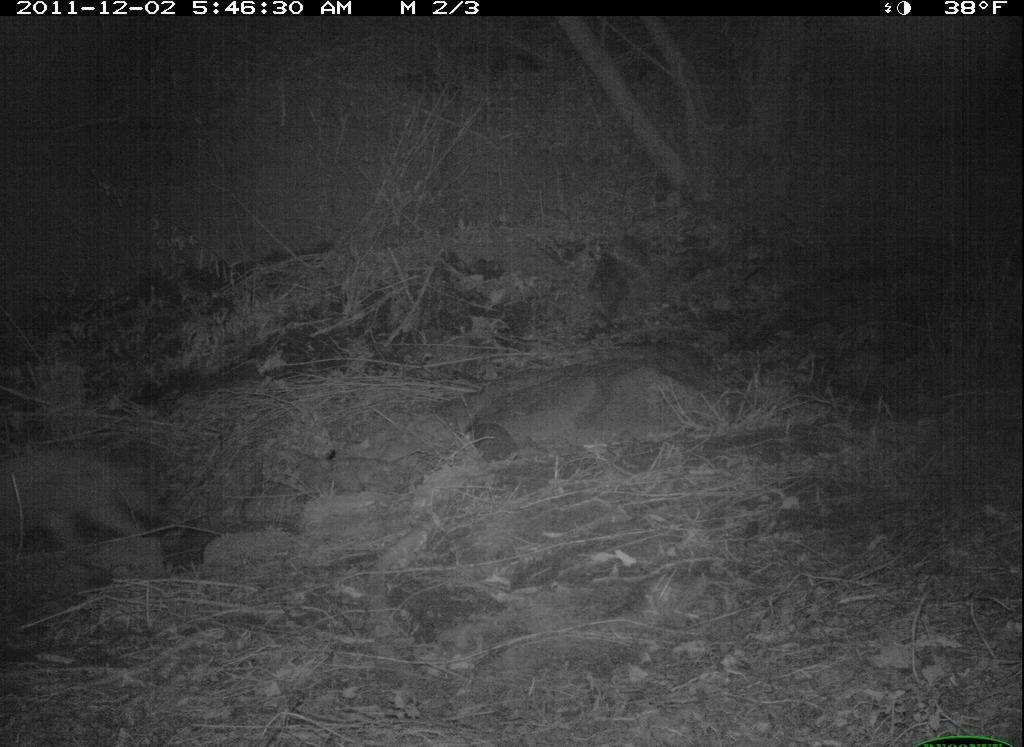coyote: (1, 438, 184, 582)
